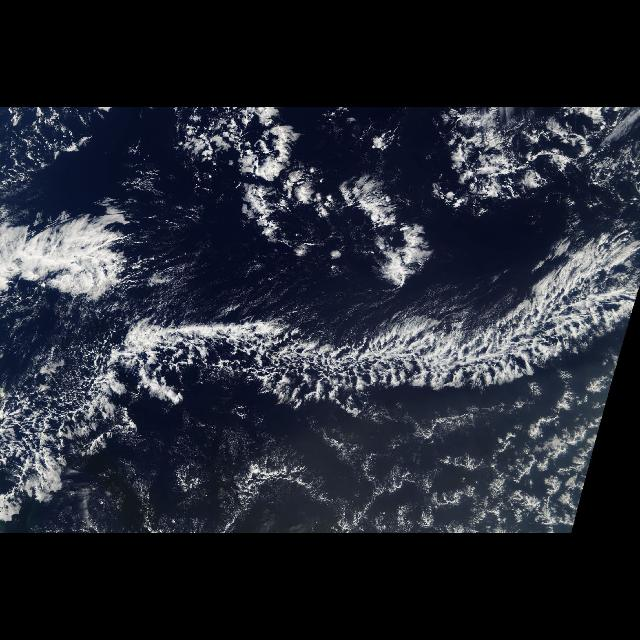Fish: (61, 231, 639, 431)
Flower: (435, 113, 619, 217)
Gravel: (312, 410, 594, 528)
